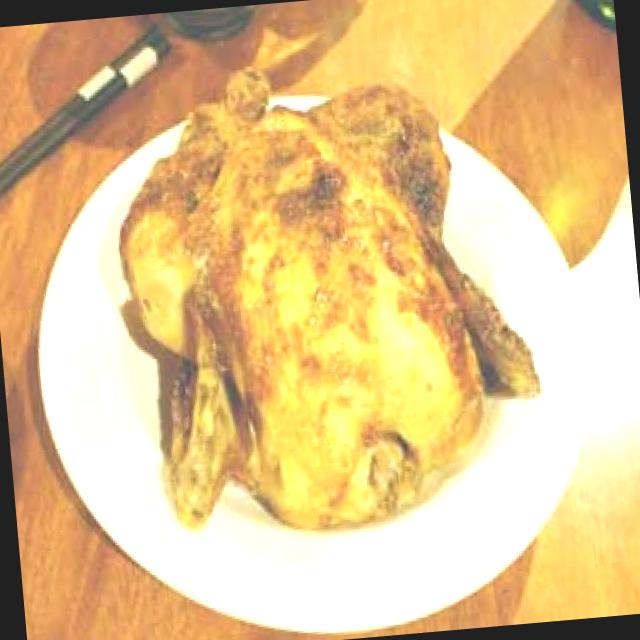Chicken: (102, 31, 556, 542)
